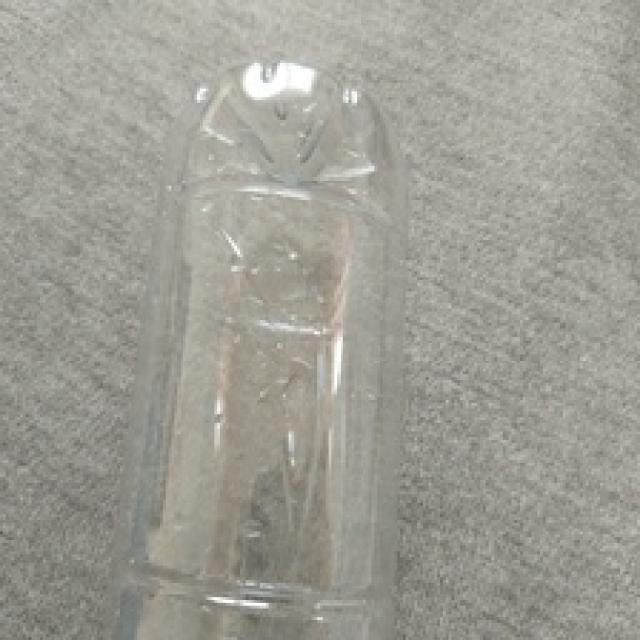Plastic: (120, 55, 403, 640)
